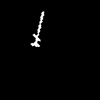double_crochet: (31, 12, 43, 46)
